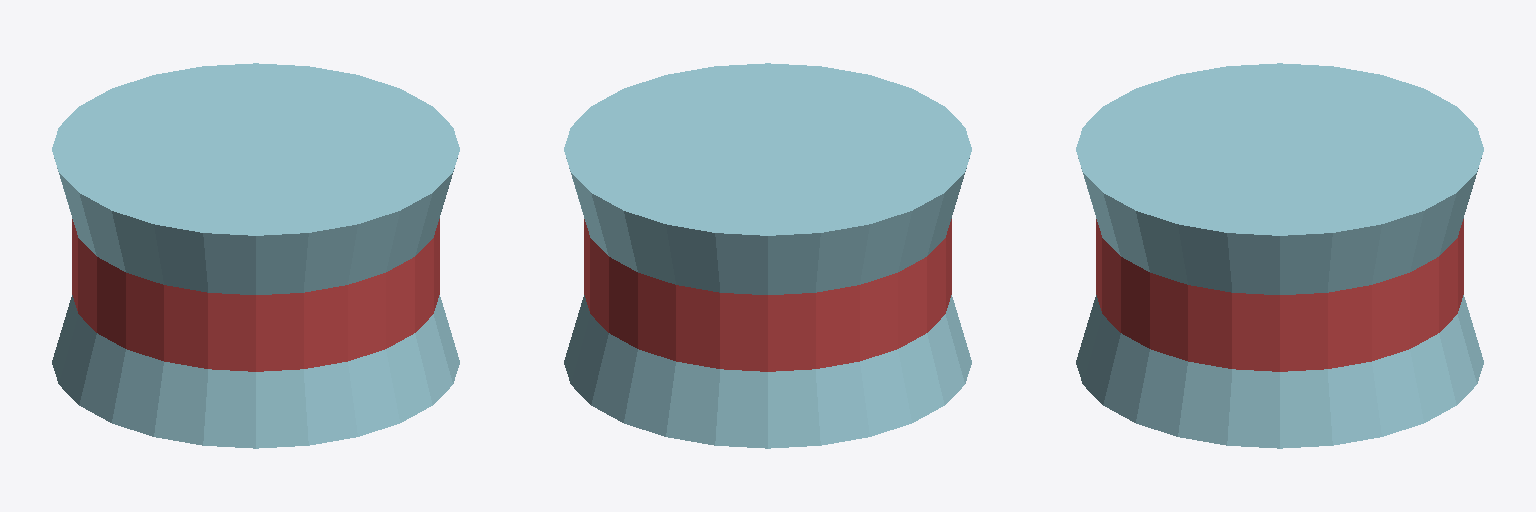
3 views of the same model, side by side, from view 1: azimuth 30°, elevation 25°; view 2: azimuth 150°, elevation 25°; view 3: azimuth 270°, elevation 25° (orthographic).
Parts seen in each view (by area): view 1: towerRound_middleA; view 2: towerRound_middleA; view 3: towerRound_middleA.
Part boxes in pixels (bbox=[...]): towerRound_middleA: bbox=[52, 63, 459, 448]; towerRound_middleA: bbox=[564, 63, 971, 448]; towerRound_middleA: bbox=[1076, 63, 1483, 448].
Bounding box in the file's own units: 1 × 0.5747 × 1.